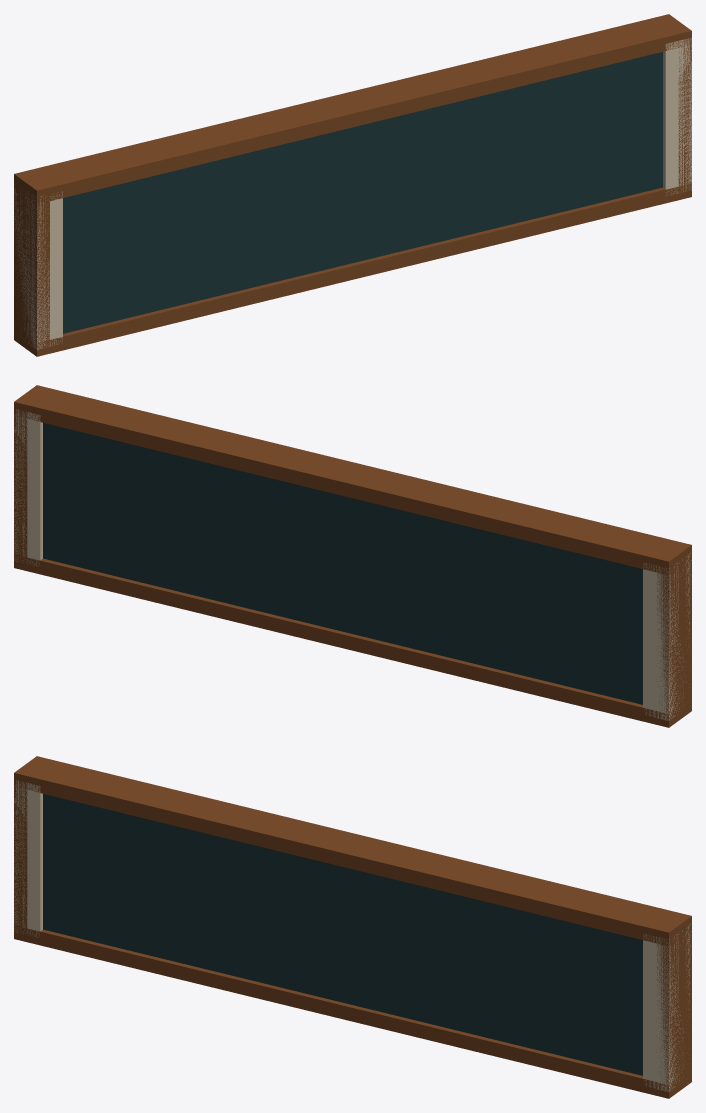
Rendered from gate_sign_beam.fbx.
3 renders of one model, top to bottom at view 1: azimuth 30°, elevation 25°; view 2: azimuth 150°, elevation 25°; view 3: azimuth 330°, elevation 25°, orthographic.
Parts seen in each view (by area): view 1: gate_sign_beam; view 2: gate_sign_beam; view 3: gate_sign_beam.
Boxes of the visible parts, x1,y1,x2,y2 form: gate_sign_beam: (14, 14, 691, 356); gate_sign_beam: (14, 385, 691, 727); gate_sign_beam: (14, 756, 691, 1098).
Size of the model in its own units: 6.6 by 1.6 by 0.4.
